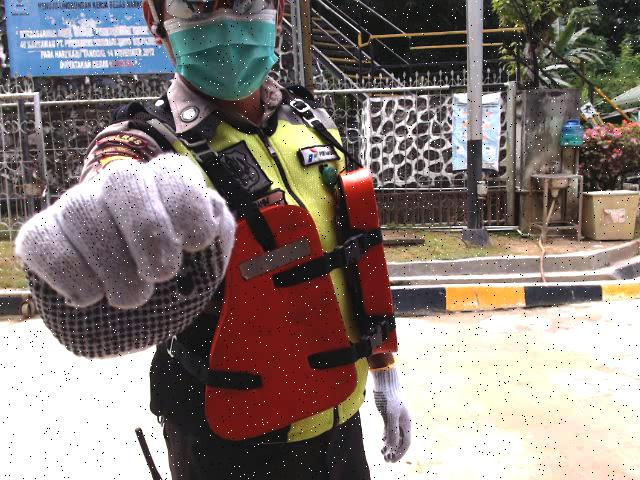glasses: (146, 0, 280, 18)
gloves: (8, 148, 242, 368), (363, 361, 420, 468)
mask: (160, 15, 285, 99)
vest: (202, 167, 404, 438)
